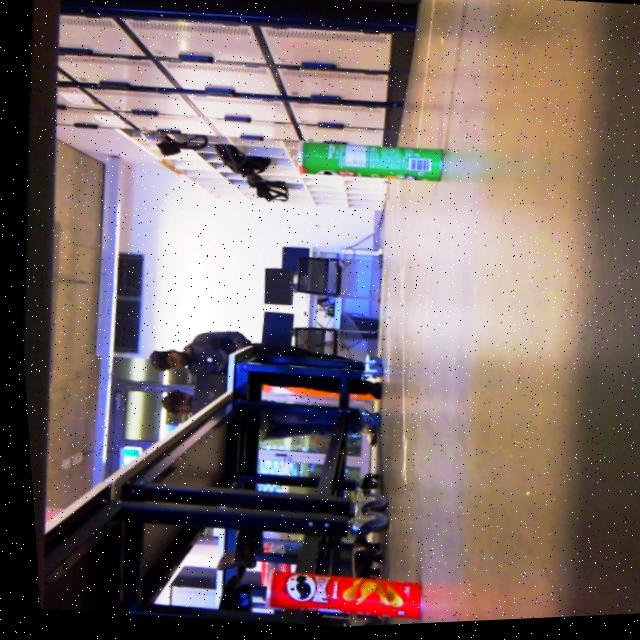greenpringles: (271, 122, 460, 202)
redpringles: (238, 553, 427, 633)
